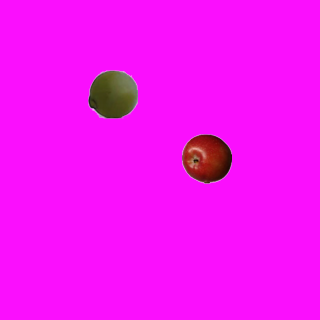Apple Braeburn: (181, 133, 231, 183)
Grape White 4: (87, 68, 137, 118)
